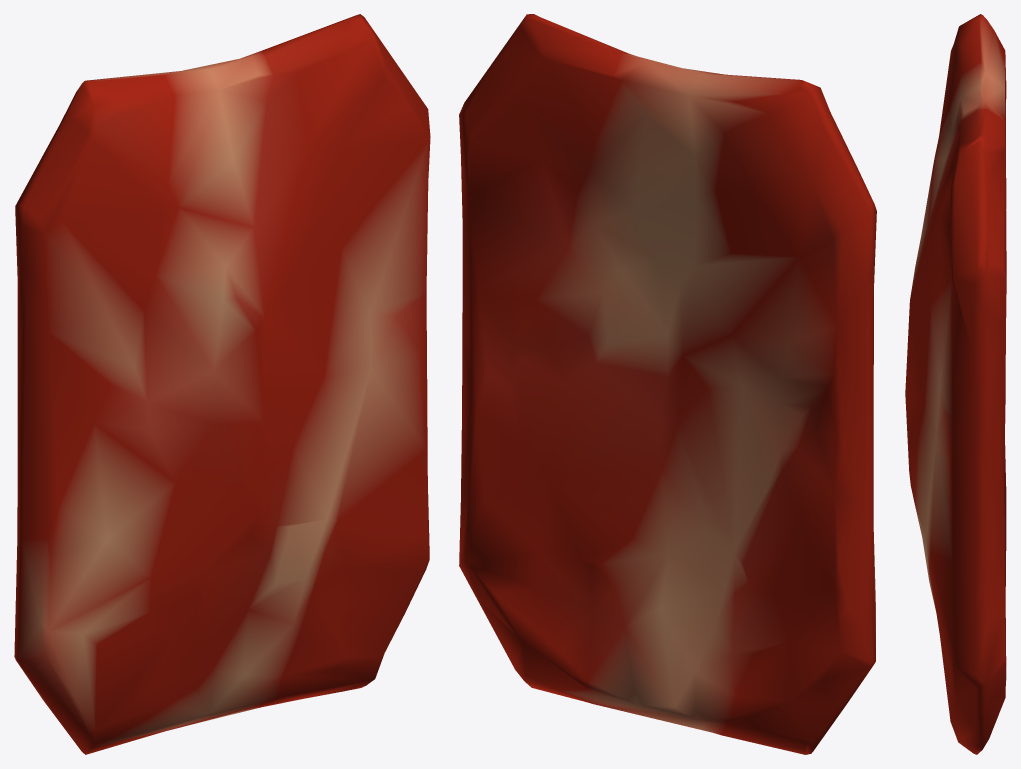
File: gen3d-bacon-lod1.glb
The picture shows the model from 3 angles, left to right: view 1: azimuth 30°, elevation 25°; view 2: azimuth 150°, elevation 25°; view 3: azimuth 270°, elevation 25°; orthographic projection. The views are drawn at different scales.
Parts seen in each view (by area): view 1: part_0; view 2: part_0; view 3: part_0.
Boxes of the visible parts, left/top/right/bottom form: part_0: left=14, top=14, right=430, bottom=754; part_0: left=459, top=14, right=876, bottom=754; part_0: left=905, top=14, right=1006, bottom=754.
Size of the model in its own units: 0.6393 by 0.9991 by 0.1487.
